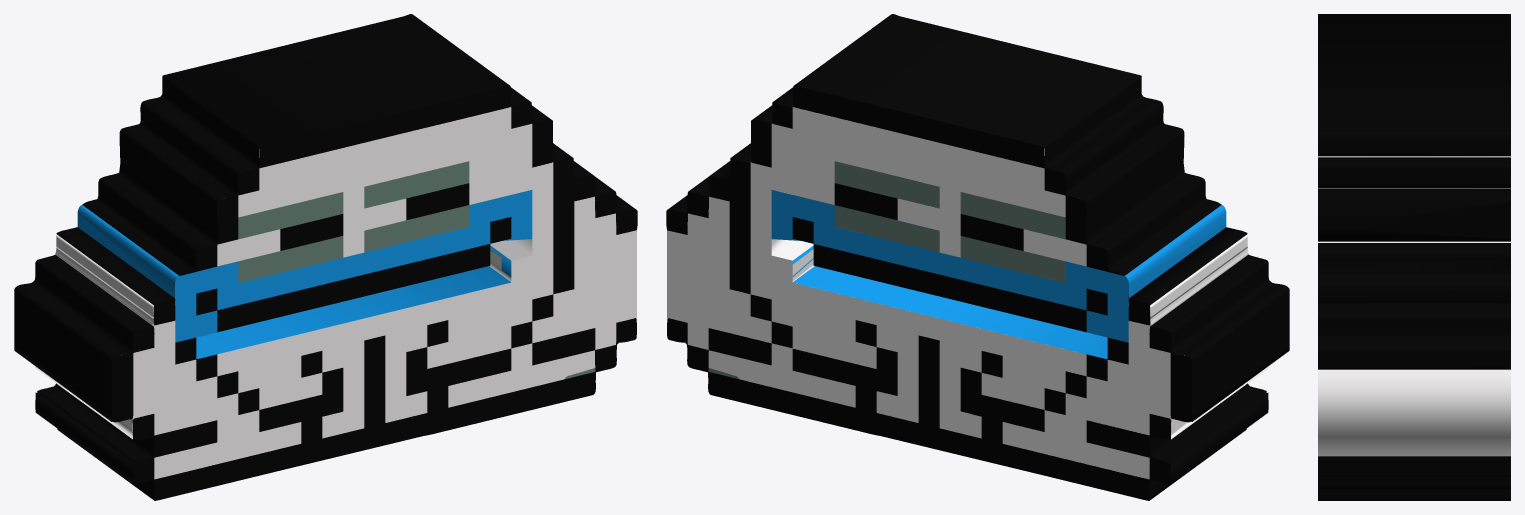
The model's file is Toadz_2965.glb.
3 renders of one model, left to right at view 1: azimuth 30°, elevation 25°; view 2: azimuth 150°, elevation 25°; view 3: azimuth 270°, elevation 25°, orthographic.
Parts seen in each view (by area): view 1: Curve; view 2: Curve; view 3: Curve.
Part boxes in pixels (box(x1,y1,x2,y2)): Curve: box(14, 14, 637, 500); Curve: box(666, 14, 1289, 500); Curve: box(1318, 14, 1510, 500).
Size of the model in its own units: 3.12 by 1.87 by 1.
